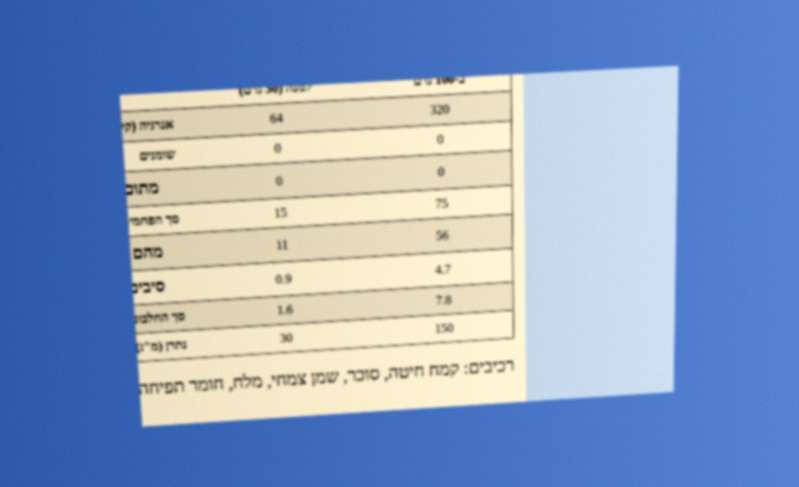carbs: (433, 195, 450, 212)
energy: (428, 100, 451, 119)
fat: (435, 130, 445, 148)
protein: (434, 291, 453, 309)
